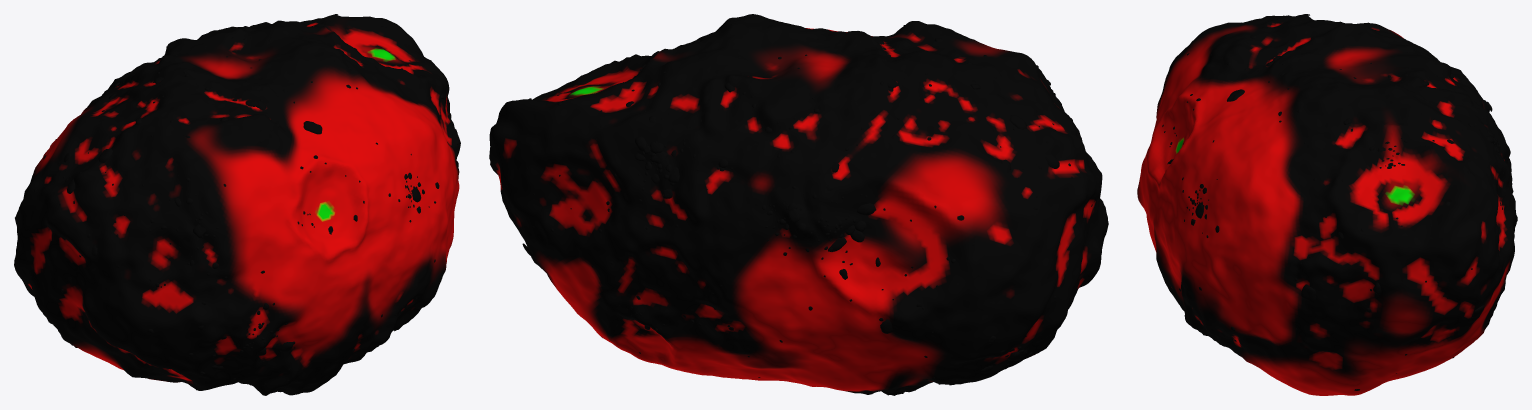
Rendered from comet_c.fbx.
3 renders of one model, left to right at view 1: azimuth 30°, elevation 25°; view 2: azimuth 150°, elevation 25°; view 3: azimuth 270°, elevation 25°, orthographic. The views are drawn at different scales.
Visible parts, largest first — view 1: comet_c_LOD0; view 2: comet_c_LOD0; view 3: comet_c_LOD0.
Boxes of the visible parts, x1,y1,x2,y2 form: comet_c_LOD0: (14, 14, 460, 395); comet_c_LOD0: (489, 14, 1108, 395); comet_c_LOD0: (1137, 14, 1517, 395).
Size of what is drawn, in the model's own units: 320 by 239 by 204.
